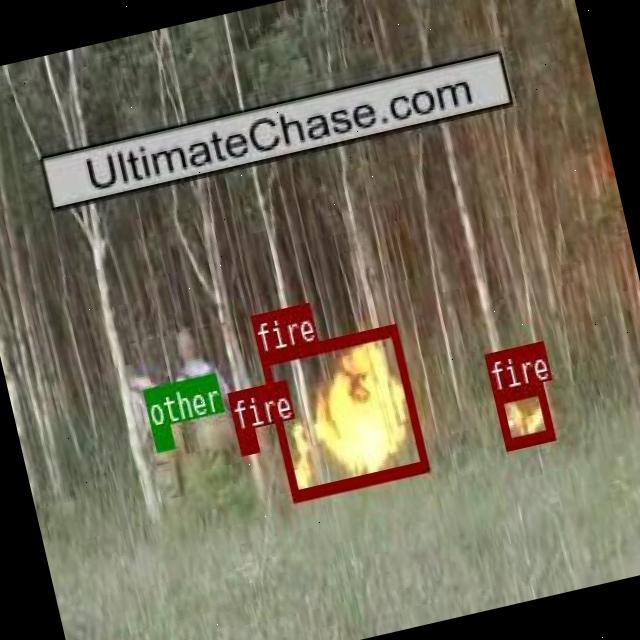fire: (258, 321, 428, 500), (492, 382, 552, 447), (235, 427, 258, 454)
